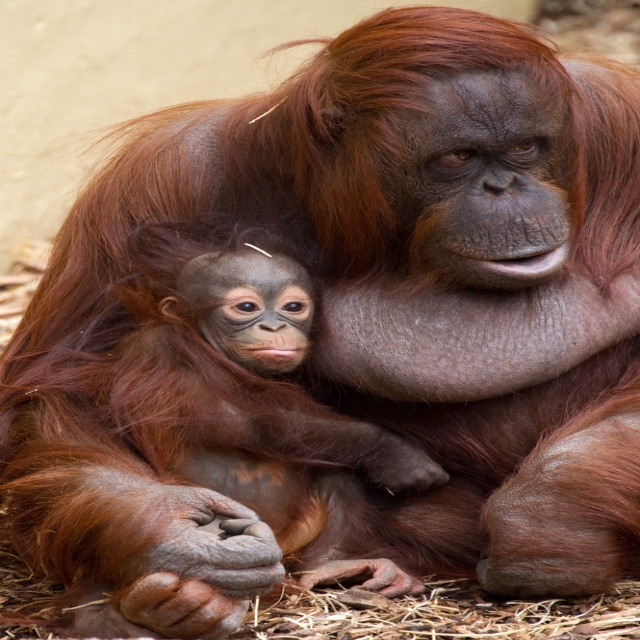Monkey: (3, 2, 639, 640)
